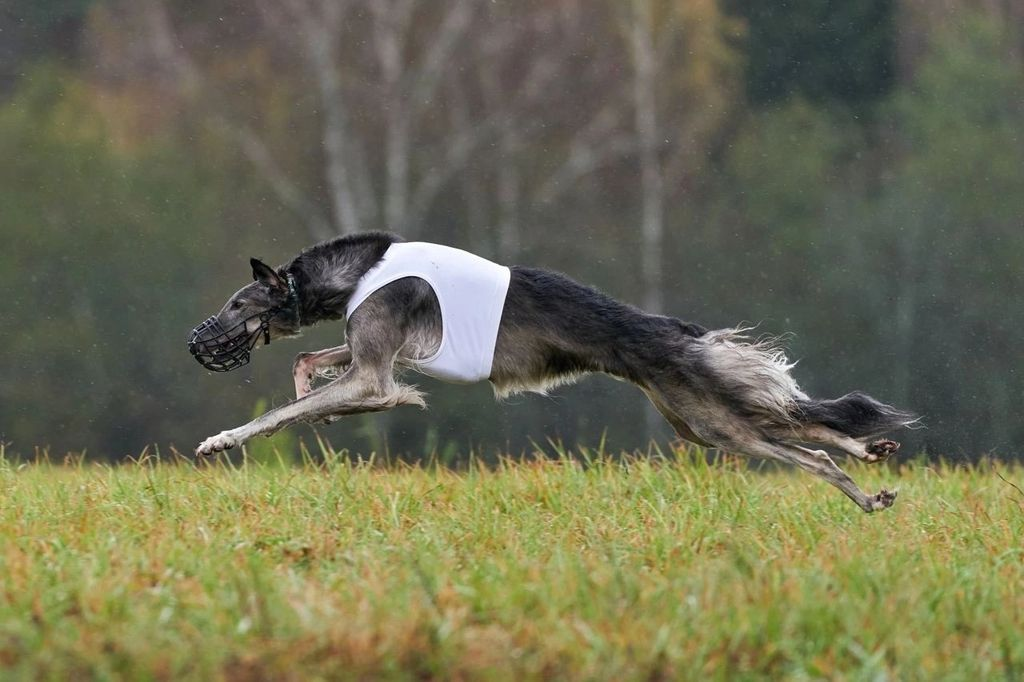borzoi: (170, 228, 937, 526)
